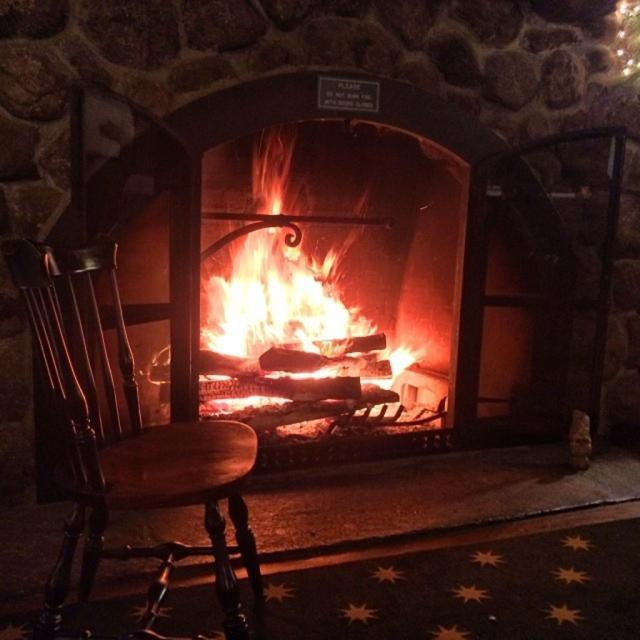Fire: (197, 130, 425, 436)
